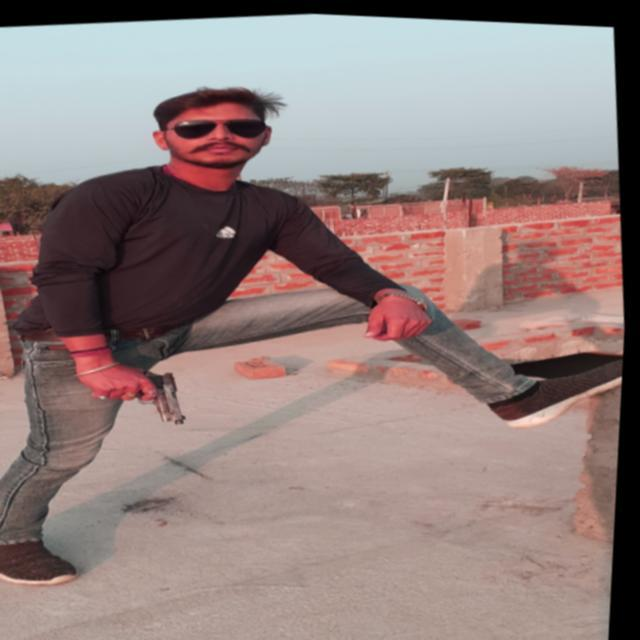weapon: (82, 361, 196, 434)
